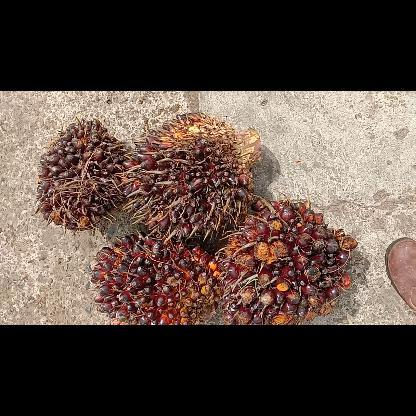Kurang masak: (215, 196, 363, 324), (122, 109, 264, 241), (86, 226, 226, 324), (32, 115, 132, 232)
